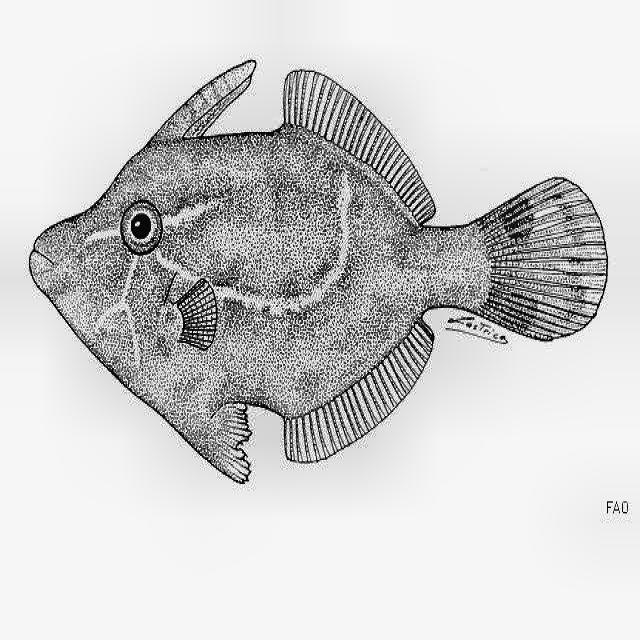fish: (30, 59, 608, 485)
